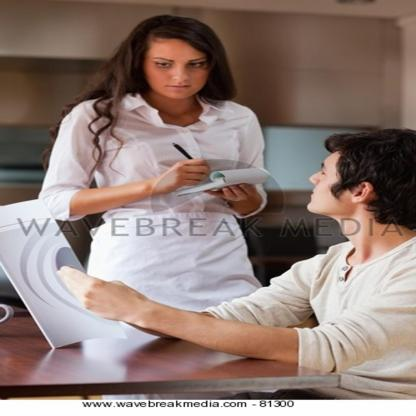face: (141, 36, 212, 100), (303, 150, 374, 214)
